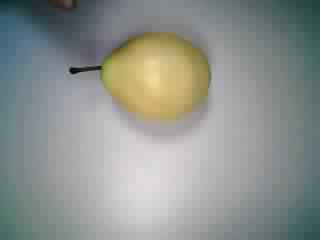pear: (61, 14, 220, 130)
